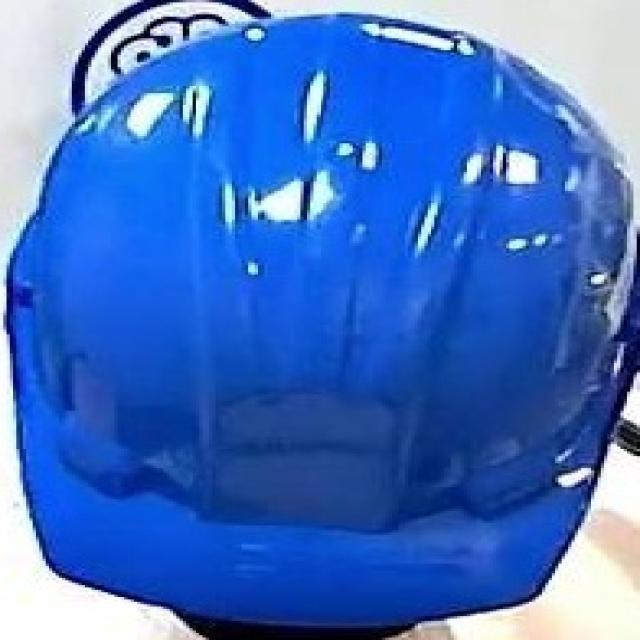helmet: (9, 15, 630, 635)
